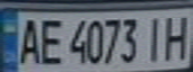0: (84, 16, 106, 65)
3: (118, 15, 142, 64)
4: (63, 16, 87, 65)
7: (103, 16, 124, 65)
A: (12, 15, 45, 66)
E: (33, 15, 66, 66)
H: (160, 11, 193, 61)
I: (142, 12, 169, 63)
